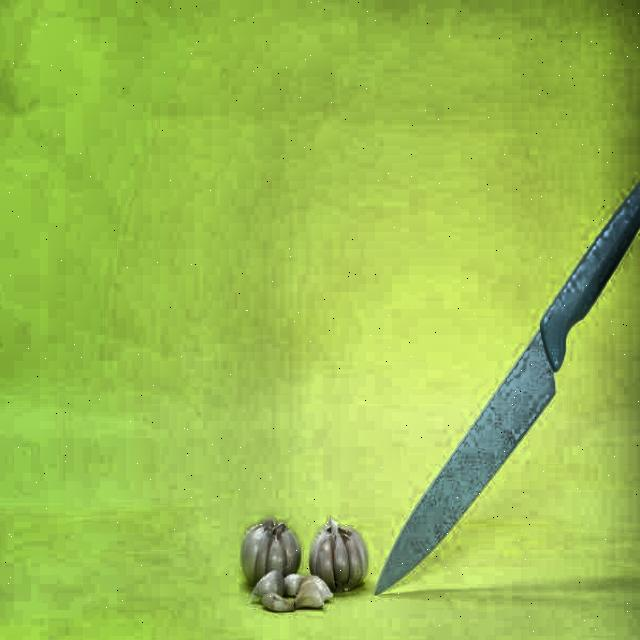knife: (376, 175, 640, 615)
